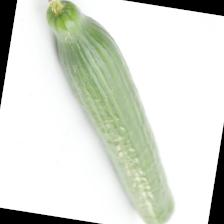cucumber: (14, 0, 205, 224)
